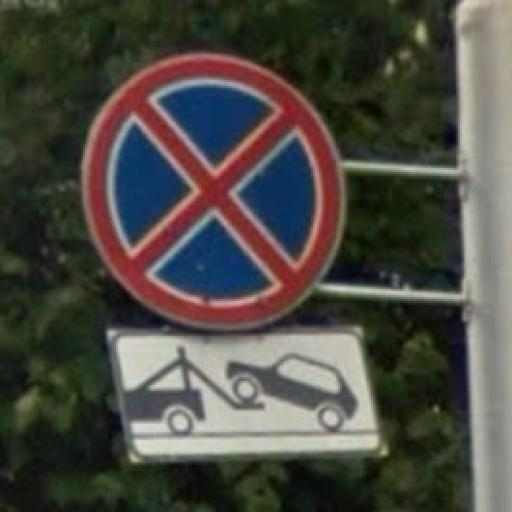traffic_sign: (78, 50, 347, 337)
